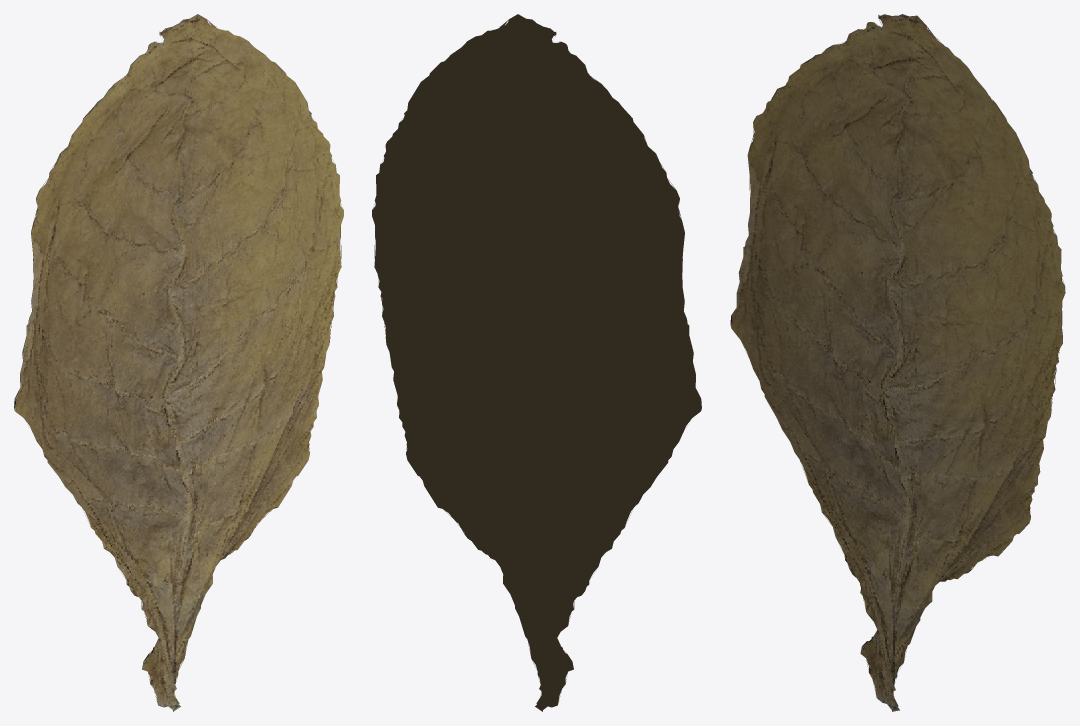
The model's file is 20260911_152135914_iOS.obj.
The picture shows the model from 3 angles, left to right: view 1: azimuth 30°, elevation 25°; view 2: azimuth 150°, elevation 25°; view 3: azimuth 330°, elevation 25°; orthographic projection.
Parts seen in each view (by area): view 1: 20260911_152135914_iOS; view 2: 20260911_152135914_iOS; view 3: 20260911_152135914_iOS.
Boxes of the visible parts, x1,y1,x2,y2 form: 20260911_152135914_iOS: (14,14,343,711); 20260911_152135914_iOS: (372,14,701,711); 20260911_152135914_iOS: (730,14,1065,711).
Size of the model in its own units: 250 by 502 by 0.3.
